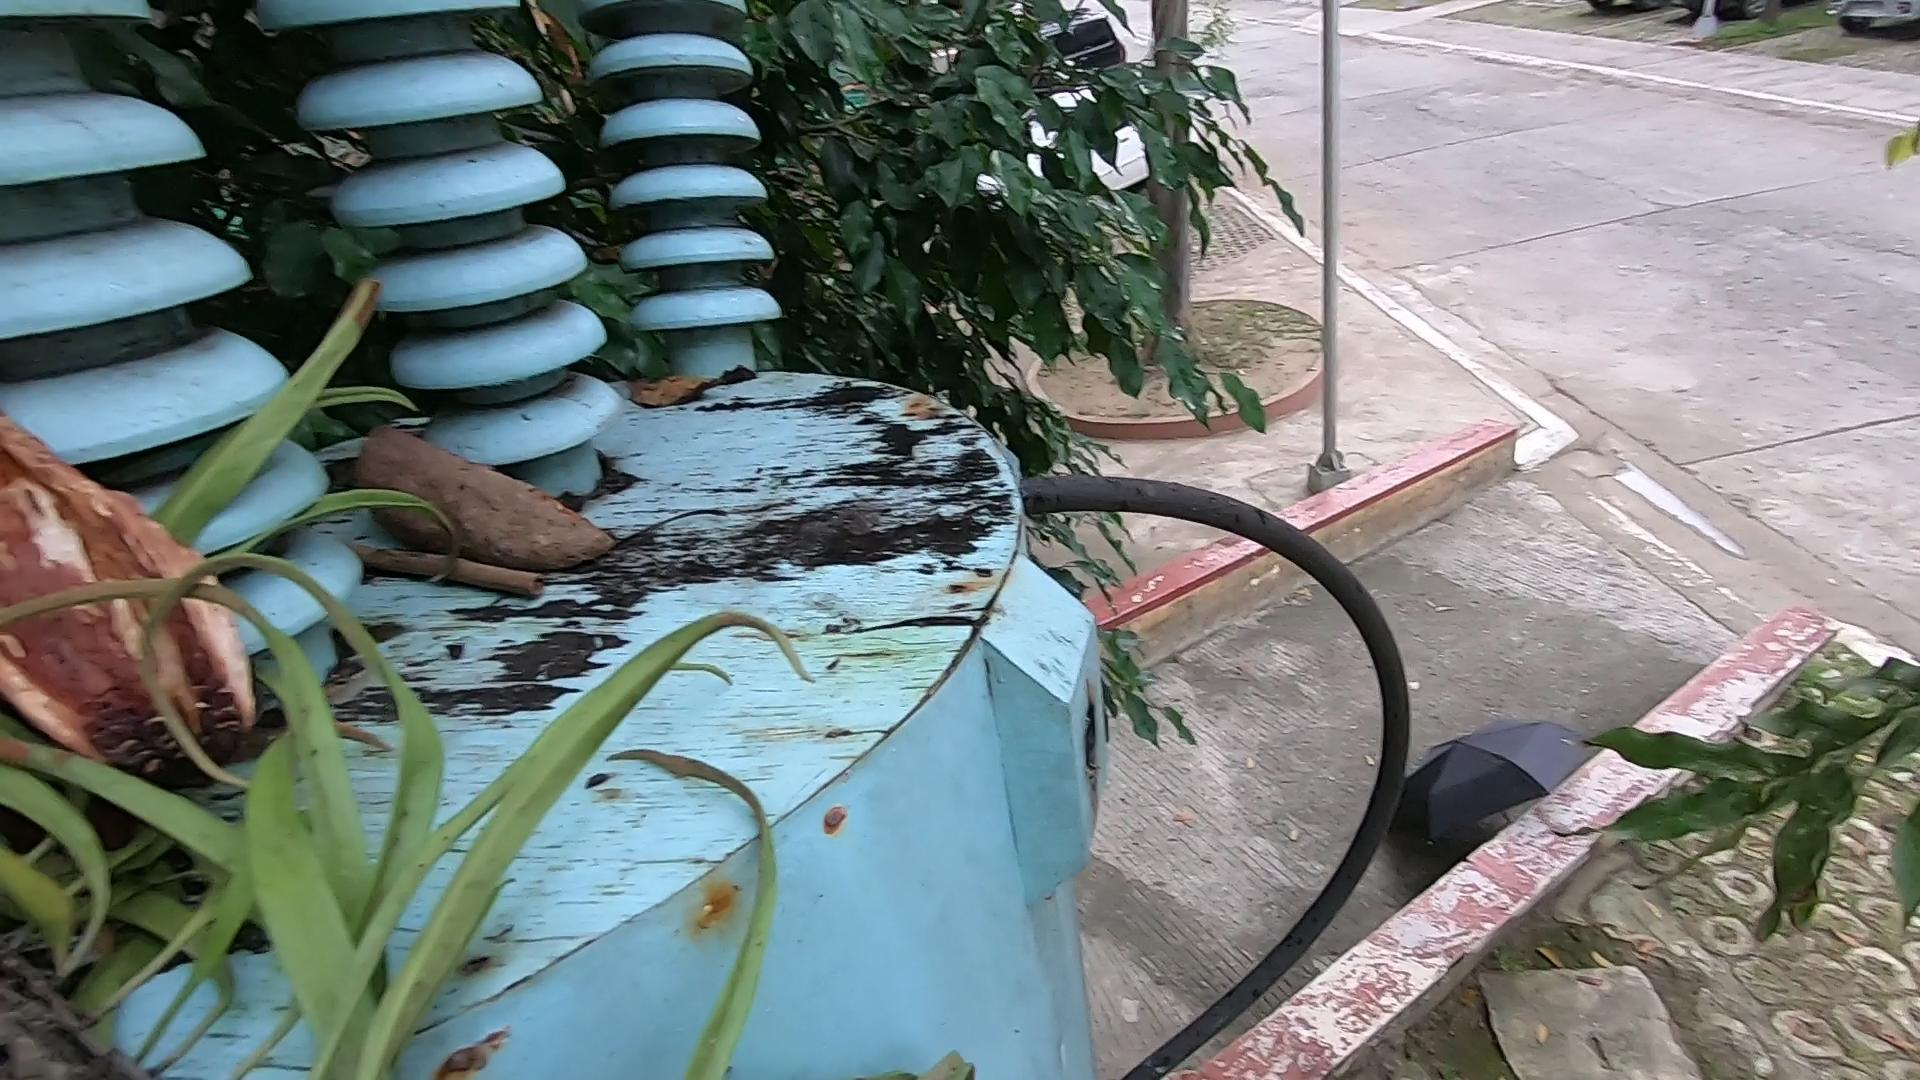leaf: (1, 446, 785, 1073), (622, 351, 752, 413)
mahogany fruit: (15, 415, 386, 767), (335, 448, 655, 605)
tree branch: (328, 509, 551, 618)
